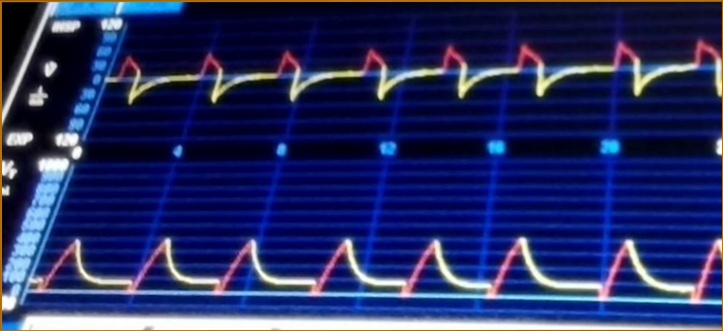Flow: (117, 29, 723, 125)
Leakage Volume: (33, 224, 723, 311)
